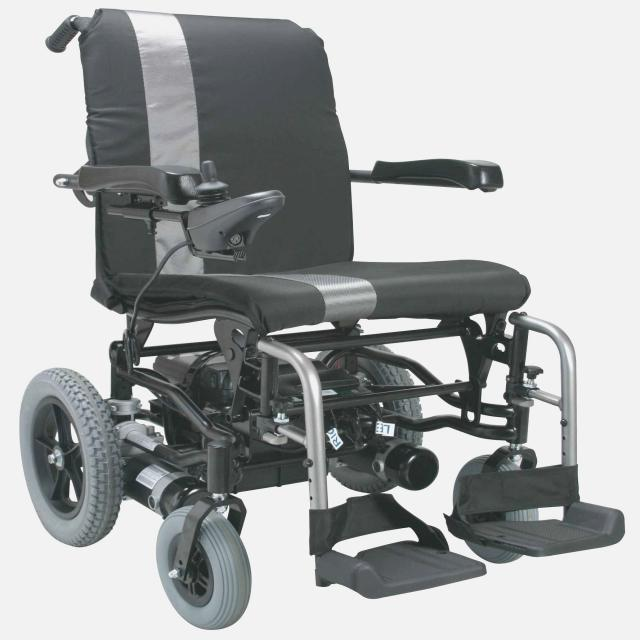wheelchair: (4, 0, 639, 635)
